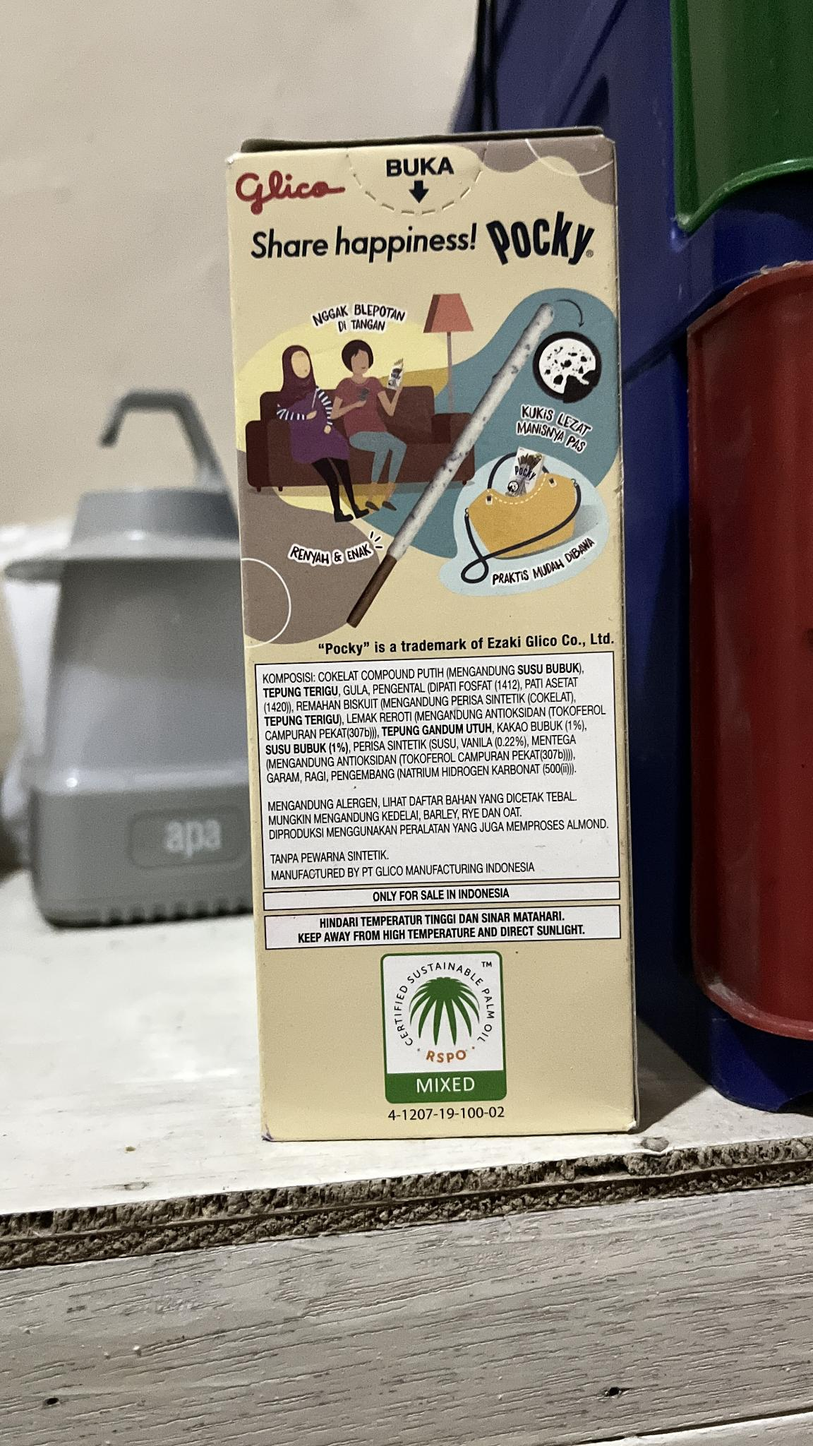Kertas: (229, 136, 642, 1144)
